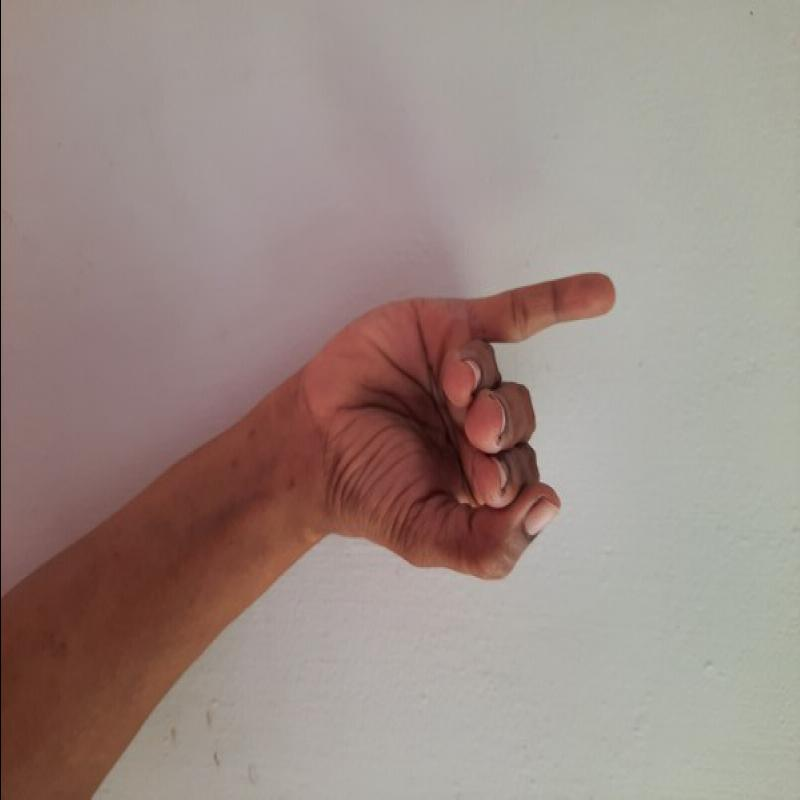Kartharee Mukham: (288, 263, 628, 592)
